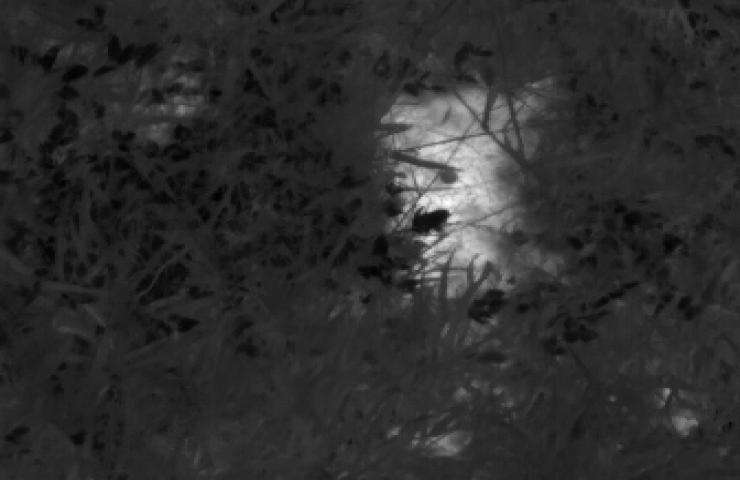landmines: (370, 73, 564, 314)
